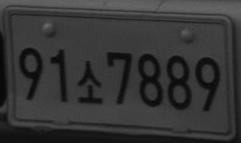1: (48, 47, 74, 102)
7: (105, 51, 133, 105)
8: (165, 54, 194, 110), (136, 52, 164, 107)
9: (194, 55, 221, 113), (17, 46, 43, 101)
소: (76, 59, 104, 104)
